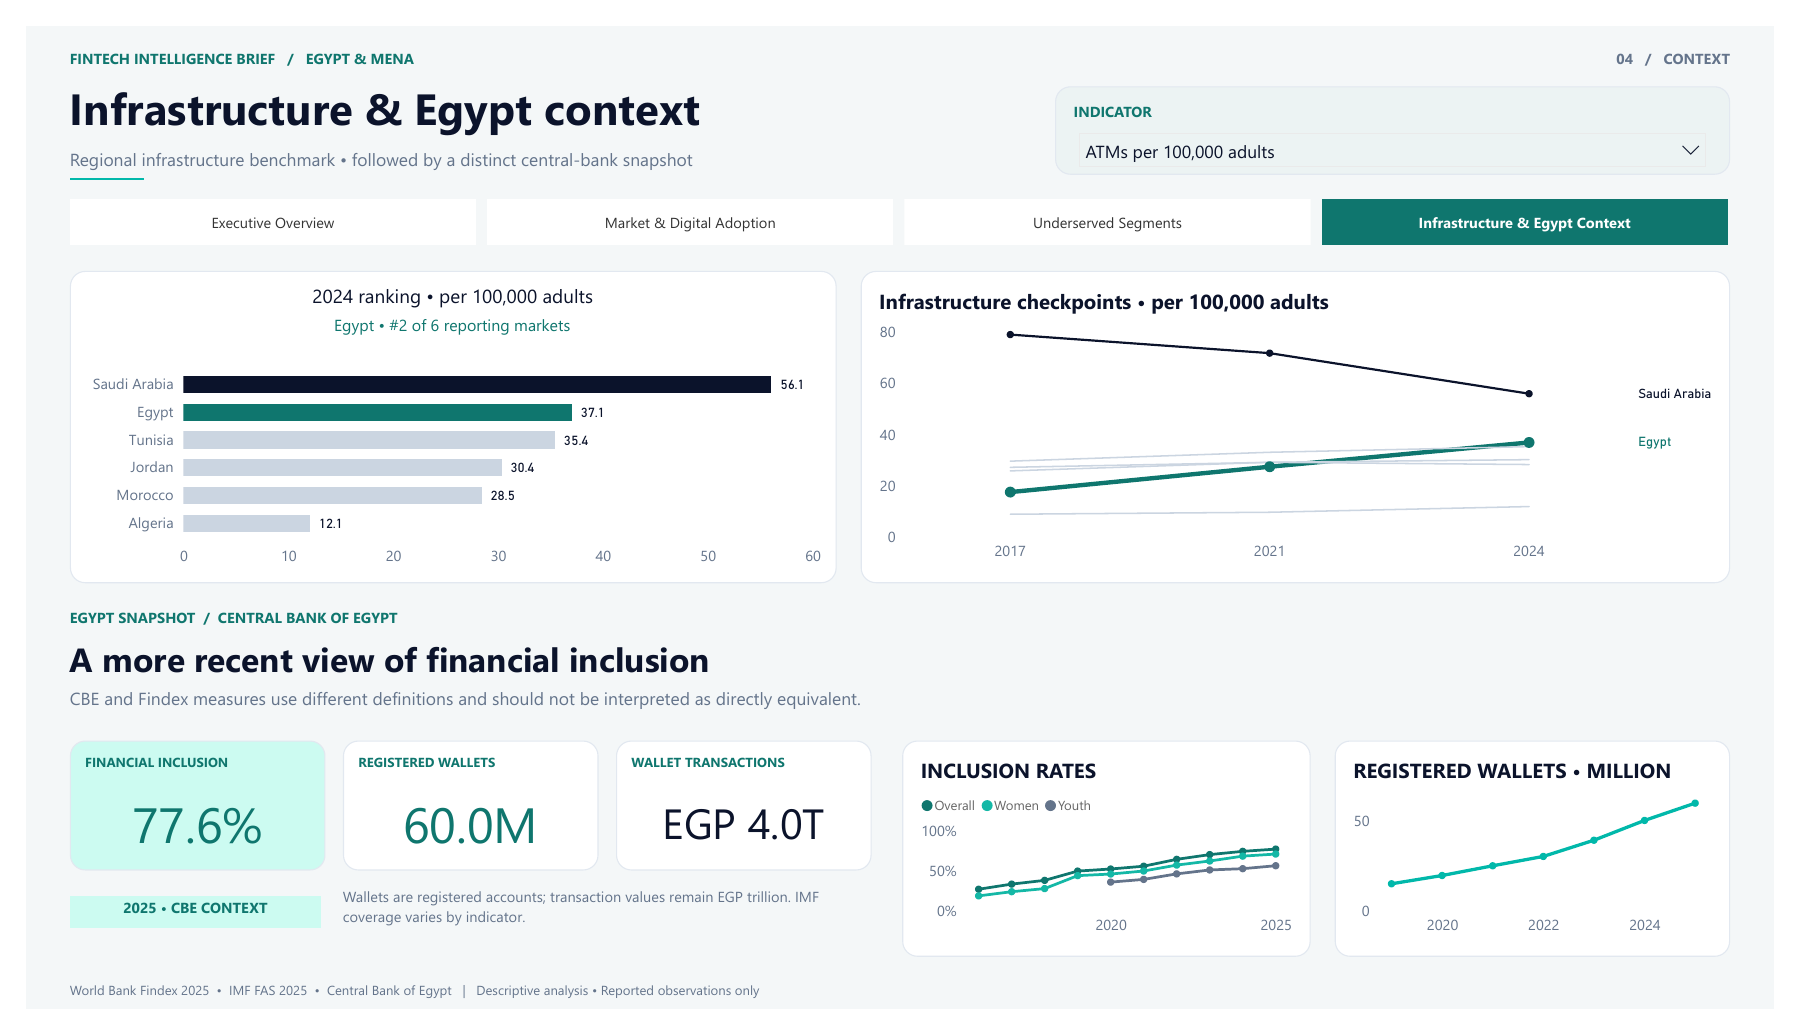

The dashboard page shown, as its layout file describes it:
{"tool":"powerbi","page":{"name":"Infrastructure & Egypt Context","canvas":[1600,900],"ordinal":3},"visuals":[{"type":"textbox","box":[40,20,970,26],"z":70},{"type":"textbox","box":[1260,20,300,26],"z":71},{"type":"textbox","box":[40,48,850,60],"z":72},{"type":"textbox","box":[40,111,850,30],"z":73},{"type":"shape","box":[40,139,68,2],"z":74},{"type":"pageNavigator","box":[40,158,1520,42],"z":75},{"type":"textbox","box":[40,872,1450,24],"z":76},{"type":"slicer","title":"INDICATOR","fields":{"Values":["Dim IMF Indicator.label"]},"box":[942,55,618,81],"z":77},{"type":"textbox","box":[40,224,702,286],"z":77.5},{"type":"clusteredBarChart","fields":{"Category":["IMF Infrastructure.country"],"Y":["KPI Measures.Infrastructure Value"]},"box":[54,302,674,198],"z":78},{"type":"card","fields":{"Values":["KPI Measures.Egypt IMF Ranking Context"]},"box":[62,260,656,32],"z":79},{"type":"lineChart","fields":{"Category":["IMF Trends.year"],"Series":["IMF Trends.country"],"Y":["KPI Measures.Infrastructure Trend"]},"box":[764,224,796,286],"z":80},{"type":"textbox","box":[40,532,1490,25],"z":81},{"type":"textbox","box":[40,559,1490,43],"z":82},{"type":"textbox","box":[40,605,1500,32],"z":83},{"type":"textbox","box":[40,654,234,119],"z":84},{"type":"textbox","box":[54,664,206,30],"z":85},{"type":"card","fields":{"Values":["KPI Measures.CBE Overall Inclusion 2025"]},"box":[46,698,222,63],"z":86},{"type":"textbox","box":[290,654,234,119],"z":87},{"type":"textbox","box":[304,664,206,30],"z":88},{"type":"card","fields":{"Values":["KPI Measures.CBE Wallets Compact"]},"box":[296,698,222,63],"z":89},{"type":"textbox","box":[540,654,234,119],"z":90},{"type":"textbox","box":[554,664,206,30],"z":91},{"type":"card","fields":{"Values":["KPI Measures.CBE Wallet Value Compact"]},"box":[546,698,222,63],"z":92},{"type":"textbox","box":[40,796,230,30],"z":93},{"type":"textbox","box":[290,787,486,60],"z":94},{"type":"lineChart","title":"INCLUSION RATES","fields":{"Category":["CBE Egypt Trends.year"],"Series":["CBE Egypt Trends.Series"],"Y":["KPI Measures.CBE Rate"]},"box":[802,654,374,198],"z":95},{"type":"lineChart","title":"REGISTERED WALLETS • MILLION","fields":{"Category":["CBE Egypt Trends.year"],"Y":["KPI Measures.CBE Wallets"]},"box":[1198,654,362,198],"z":96},{"type":"card","fields":{"Values":["KPI Measures.IMF Ranking Title"]},"box":[57,232,667,34],"z":100}]}

Visuals, with their boxes in screenshot pixels (x1, y1, x2, y2), scaled from the page's 1600x900 canvas onto the 1800x1036 screenshot:
textbox: BBox(45, 23, 1136, 53)
textbox: BBox(1418, 23, 1755, 53)
textbox: BBox(45, 55, 1001, 124)
textbox: BBox(45, 128, 1001, 162)
shape: BBox(45, 160, 122, 162)
pageNavigator: BBox(45, 182, 1755, 230)
textbox: BBox(45, 1004, 1676, 1031)
"INDICATOR" slicer: BBox(1060, 63, 1755, 157)
textbox: BBox(45, 258, 835, 587)
clusteredBarChart - IMF Infrastructure.country x KPI Measures.Infrastructure Value: BBox(61, 348, 819, 576)
card - KPI Measures.Egypt IMF Ranking Context: BBox(70, 299, 808, 336)
lineChart - IMF Trends.year x IMF Trends.country: BBox(860, 258, 1755, 587)
textbox: BBox(45, 612, 1721, 641)
textbox: BBox(45, 643, 1721, 693)
textbox: BBox(45, 696, 1732, 733)
textbox: BBox(45, 753, 308, 890)
textbox: BBox(61, 764, 292, 799)
card - KPI Measures.CBE Overall Inclusion 2025: BBox(52, 803, 302, 876)
textbox: BBox(326, 753, 590, 890)
textbox: BBox(342, 764, 574, 799)
card - KPI Measures.CBE Wallets Compact: BBox(333, 803, 583, 876)
textbox: BBox(608, 753, 871, 890)
textbox: BBox(623, 764, 855, 799)
card - KPI Measures.CBE Wallet Value Compact: BBox(614, 803, 864, 876)
textbox: BBox(45, 916, 304, 951)
textbox: BBox(326, 906, 873, 975)
"INCLUSION RATES" lineChart: BBox(902, 753, 1323, 981)
"REGISTERED WALLETS • MILLION" lineChart: BBox(1348, 753, 1755, 981)
card - KPI Measures.IMF Ranking Title: BBox(64, 267, 814, 306)
